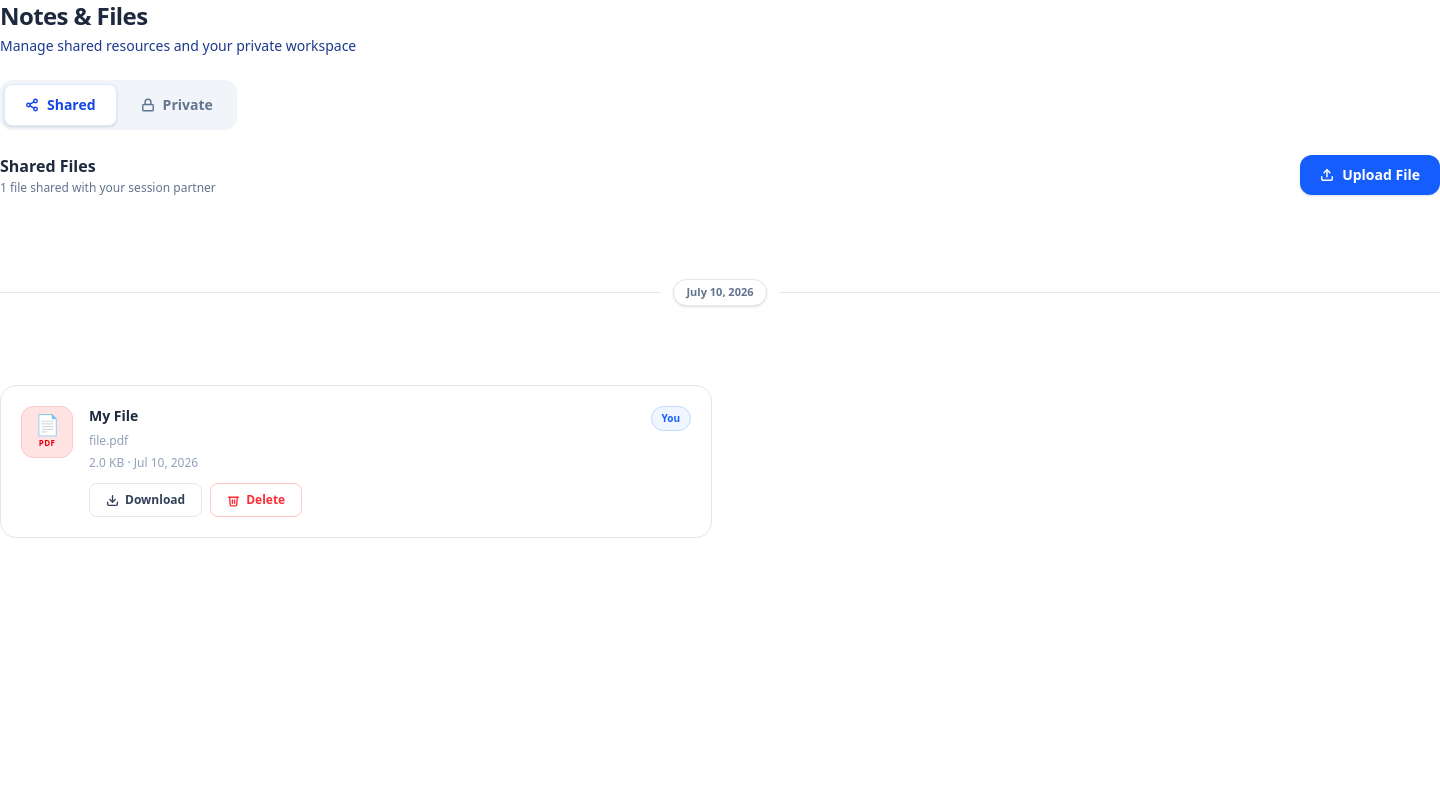
Scenario: SharedNotesTab › shows a spinner and 'Uploading...' label while uploading
The image size is (1440, 810).
What coordinates should you click on to do the following:
click the button "Upload File"
I would click on:
 (1370, 175)
Its box is [1300,155,1439,195].
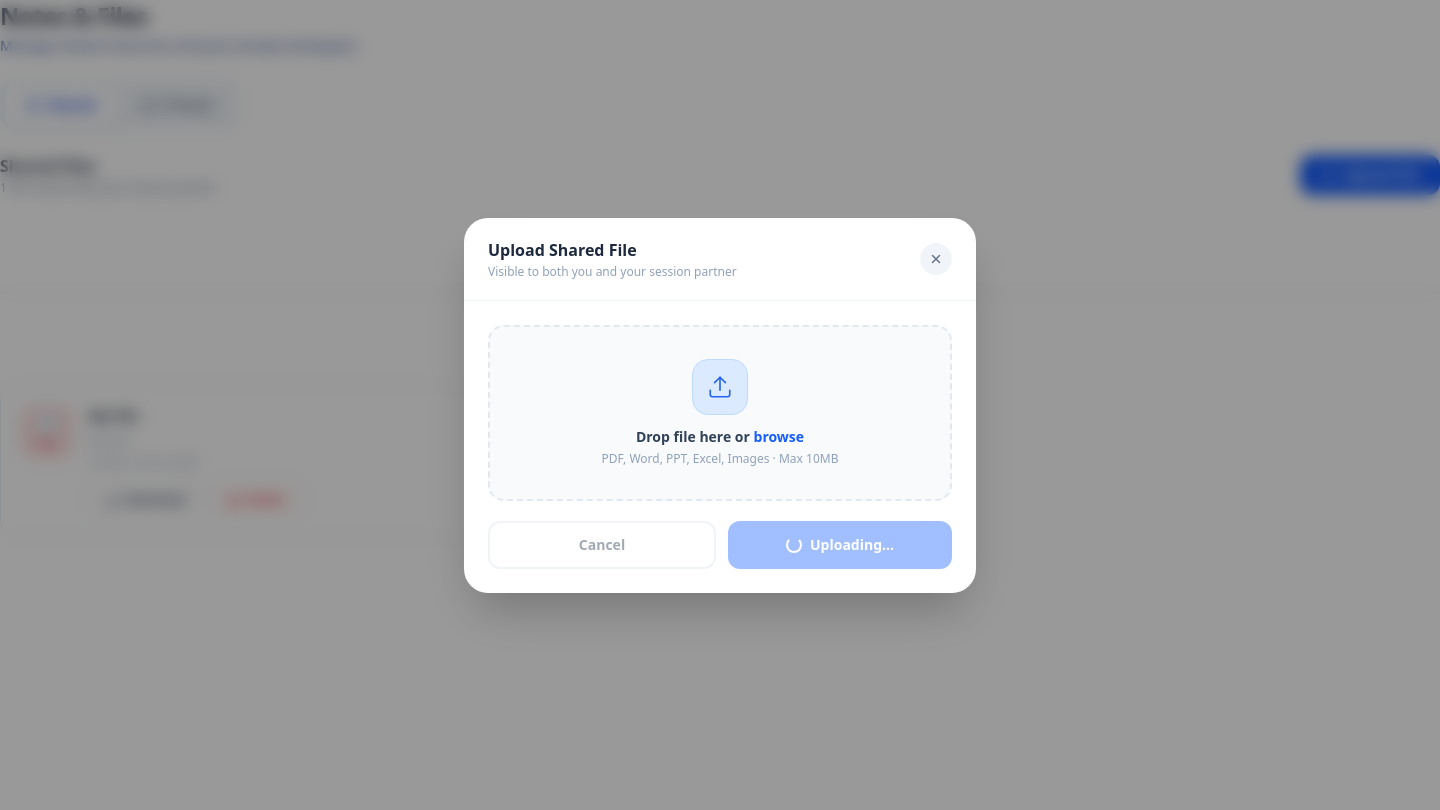
Now the button "Uploading..." is shown, box [728,520,952,568]
